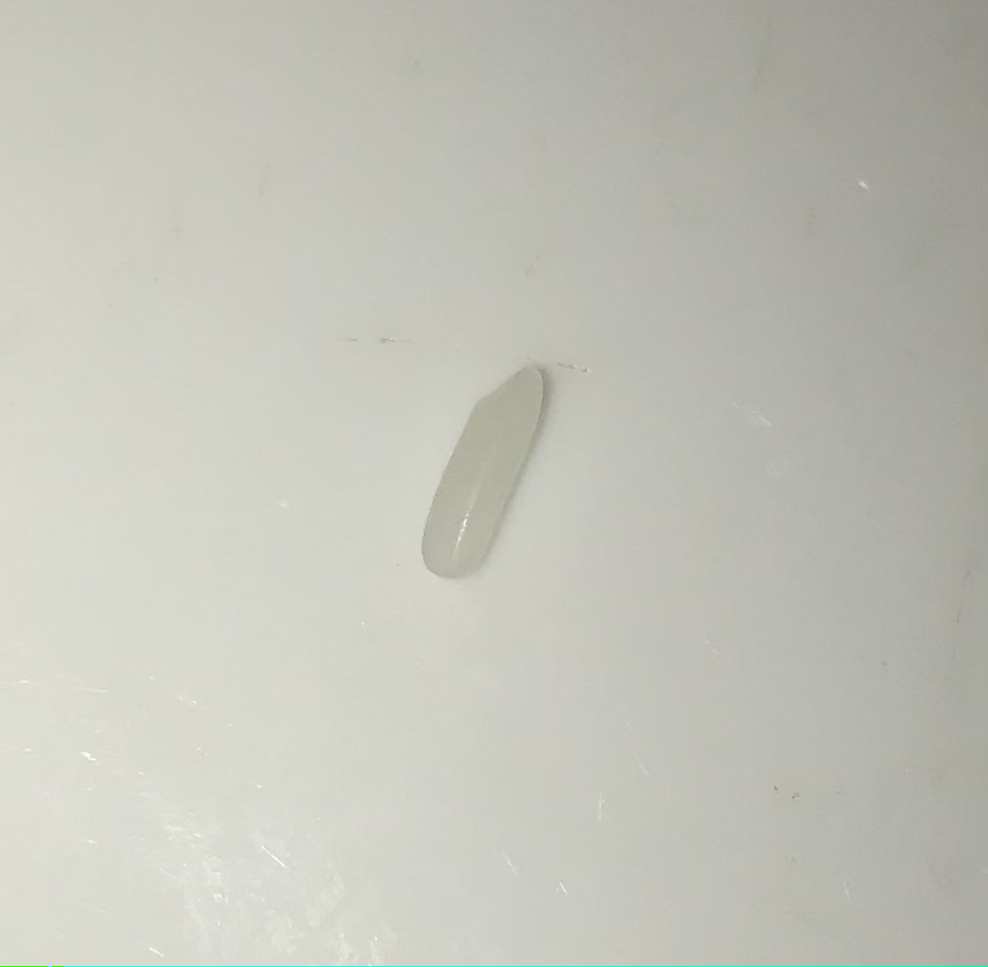Gao Ngoc Troi: (407, 347, 570, 592)
